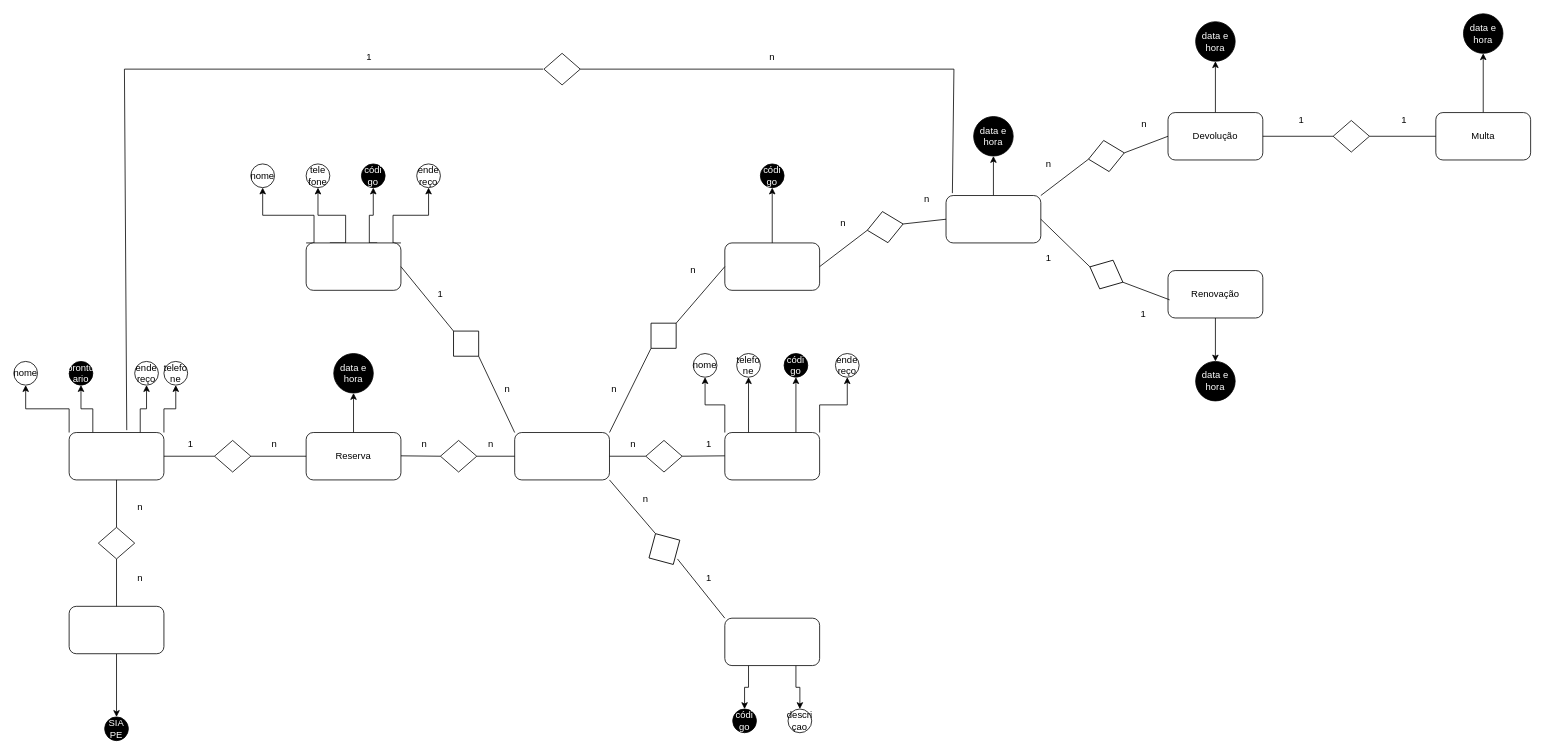
Image size: 1544x754. Some labels were removed from this diagram. Here are the shapes that lost their labels. From the top down, the box of each, then its label:
(945, 195, 1041, 243): Empréstimo
(305, 242, 401, 290): Autor
(724, 242, 820, 290): Exemplar
(68, 432, 164, 480): Usuario
(514, 432, 609, 480): Livro
(724, 432, 820, 480): Editora
(68, 606, 164, 654): Funcionários
(724, 617, 820, 666): Palavra-chave
